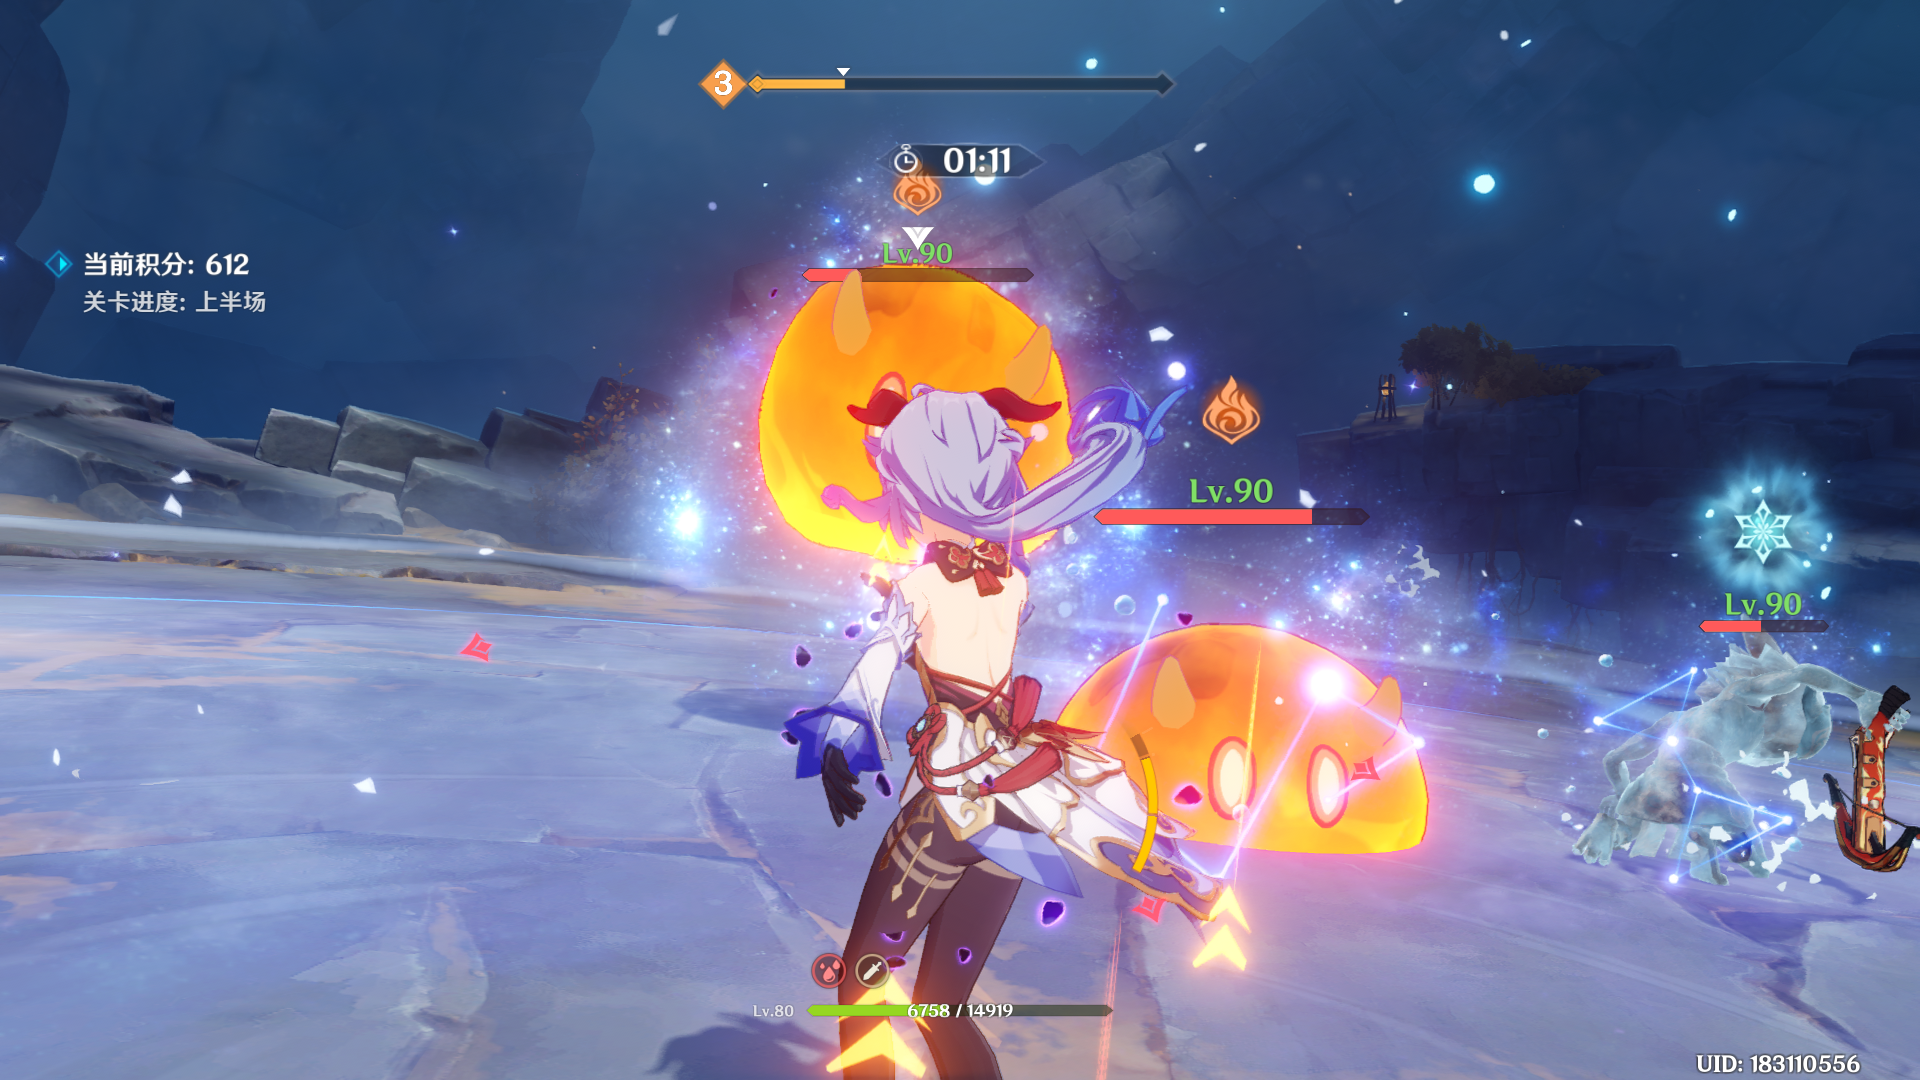character: (746, 319, 1156, 1080)
slime: (1026, 582, 1458, 905), (760, 253, 1083, 603)
